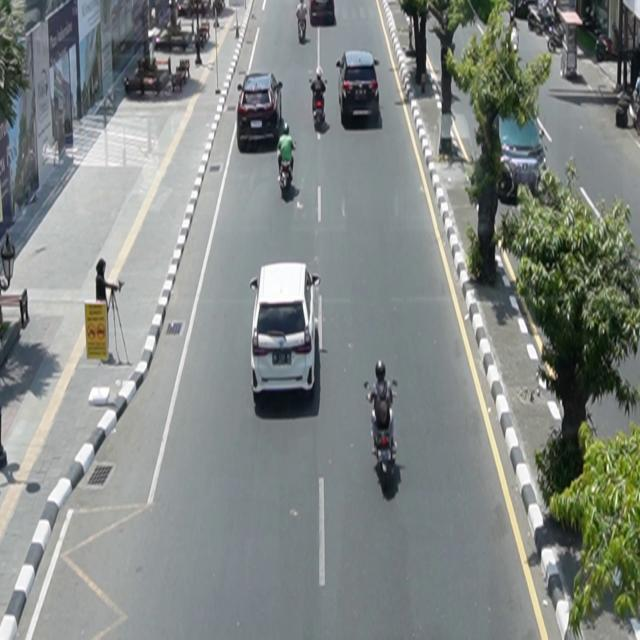car: (250, 262, 322, 400), (493, 108, 548, 206), (237, 72, 284, 153), (337, 50, 381, 123)
